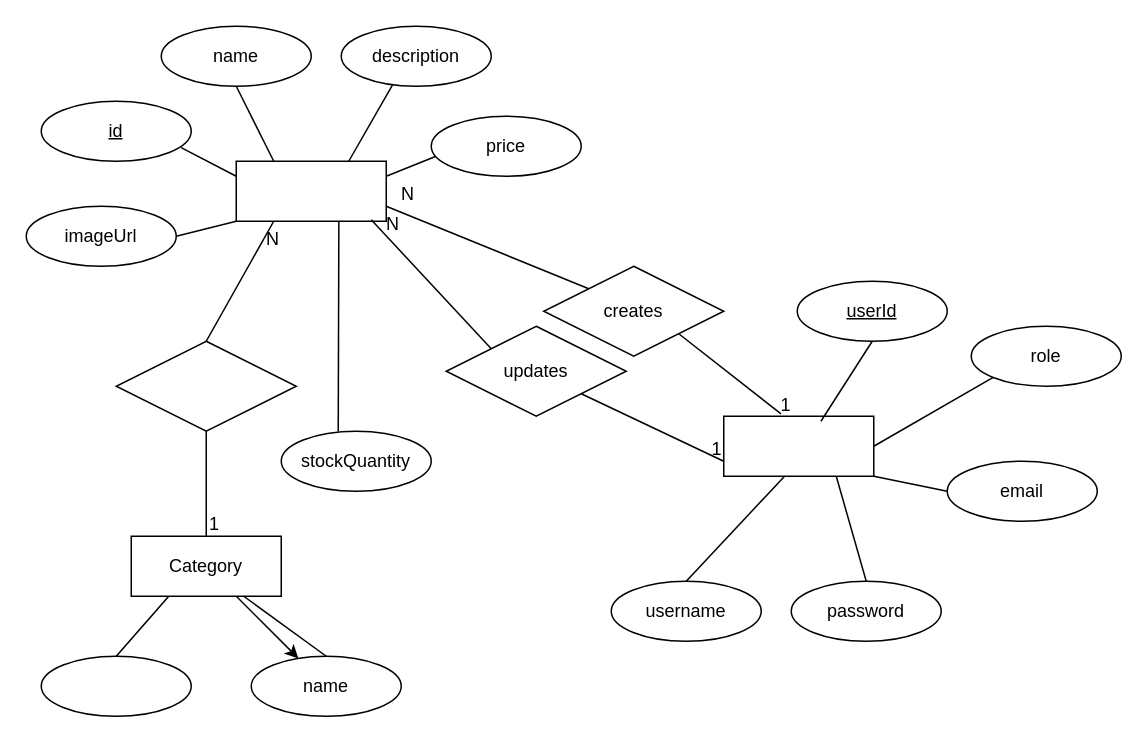
Image size: 1148x743. Some labels were removed from this diagram. The box of each missing label's shape, as (x1, y1, x2, y2) in pixels:
belongsTo: (115, 340, 296, 431)
categoryId: (40, 655, 191, 716)
Product: (235, 160, 386, 221)
user: (722, 415, 874, 476)
